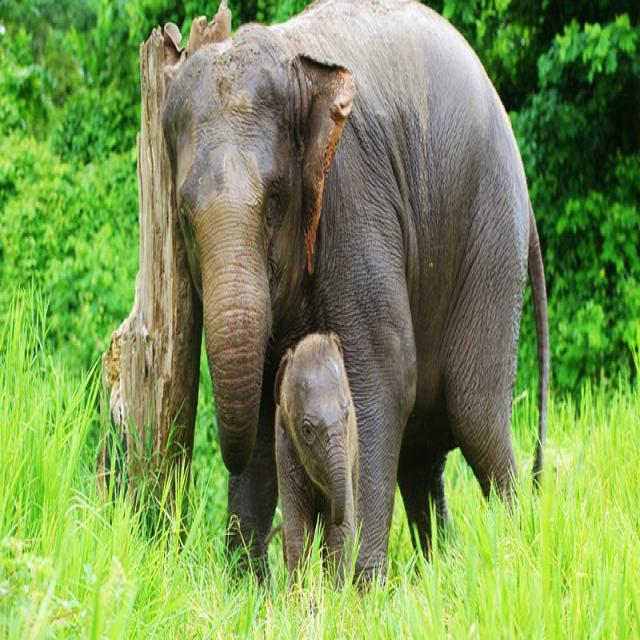Elephant: (145, 1, 584, 624), (257, 320, 391, 634)
